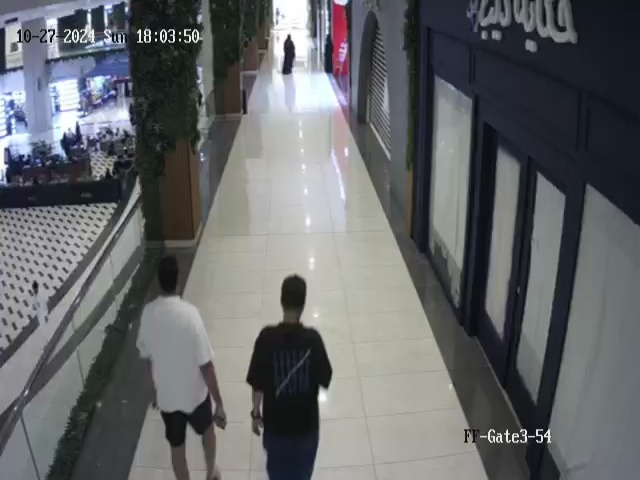female: (281, 34, 296, 75)
male: (136, 254, 227, 480), (246, 274, 333, 480)
